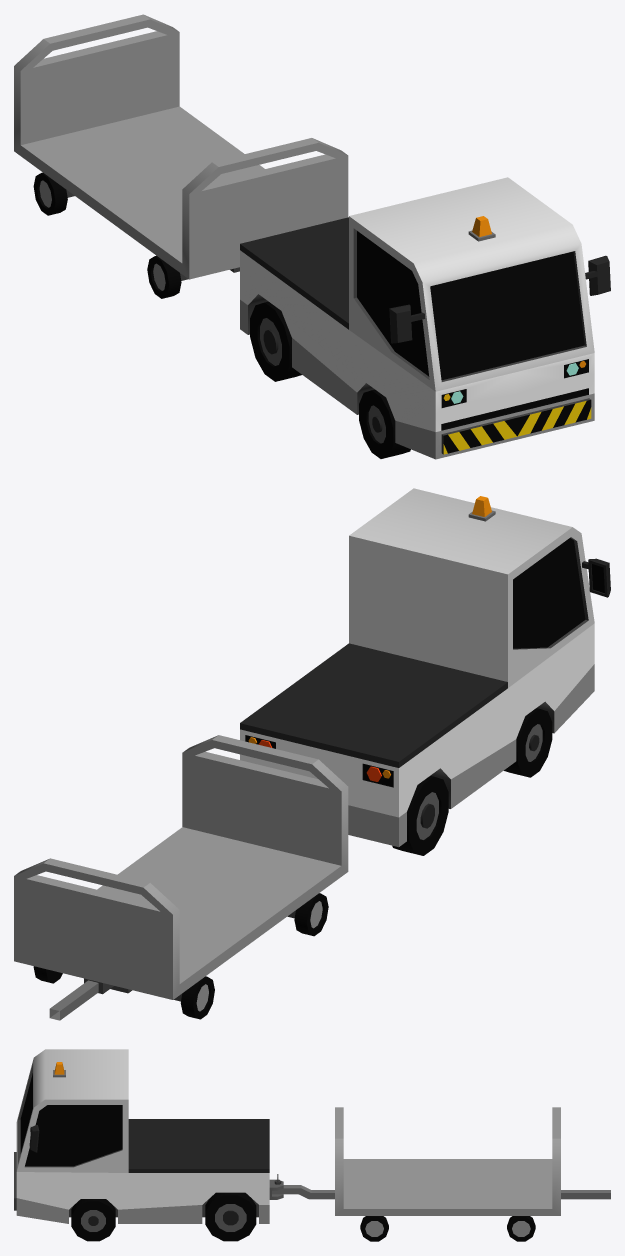
Rendered from Luggage Carrier Vehicle.fbx.
The picture shows the model from 3 angles, top to bottom: view 1: azimuth 30°, elevation 25°; view 2: azimuth 150°, elevation 25°; view 3: azimuth 270°, elevation 25°; orthographic projection. The views are drawn at different scales.
Parts seen in each view (by area): view 1: Airport_Luggage_Carrier_Vehicle, Baggage_Cart; view 2: Airport_Luggage_Carrier_Vehicle, Baggage_Cart, Cart_Connector_2; view 3: Airport_Luggage_Carrier_Vehicle, Baggage_Cart, Cart_Connector_1, Cart_Connector_2.
Part boxes in pixels (box(x1,y1,x2,y2)): Airport_Luggage_Carrier_Vehicle: box(240, 177, 610, 459); Baggage_Cart: box(14, 14, 348, 298); Airport_Luggage_Carrier_Vehicle: box(240, 488, 610, 855); Baggage_Cart: box(14, 735, 348, 1019); Cart_Connector_2: box(49, 980, 98, 1020); Airport_Luggage_Carrier_Vehicle: box(14, 1049, 283, 1241); Baggage_Cart: box(335, 1107, 560, 1241); Cart_Connector_1: box(272, 1185, 334, 1199); Cart_Connector_2: box(561, 1190, 610, 1199).
Size of the model in its own units: 186 by 194 by 685.
Materials: 1 (1 with a texture image).
